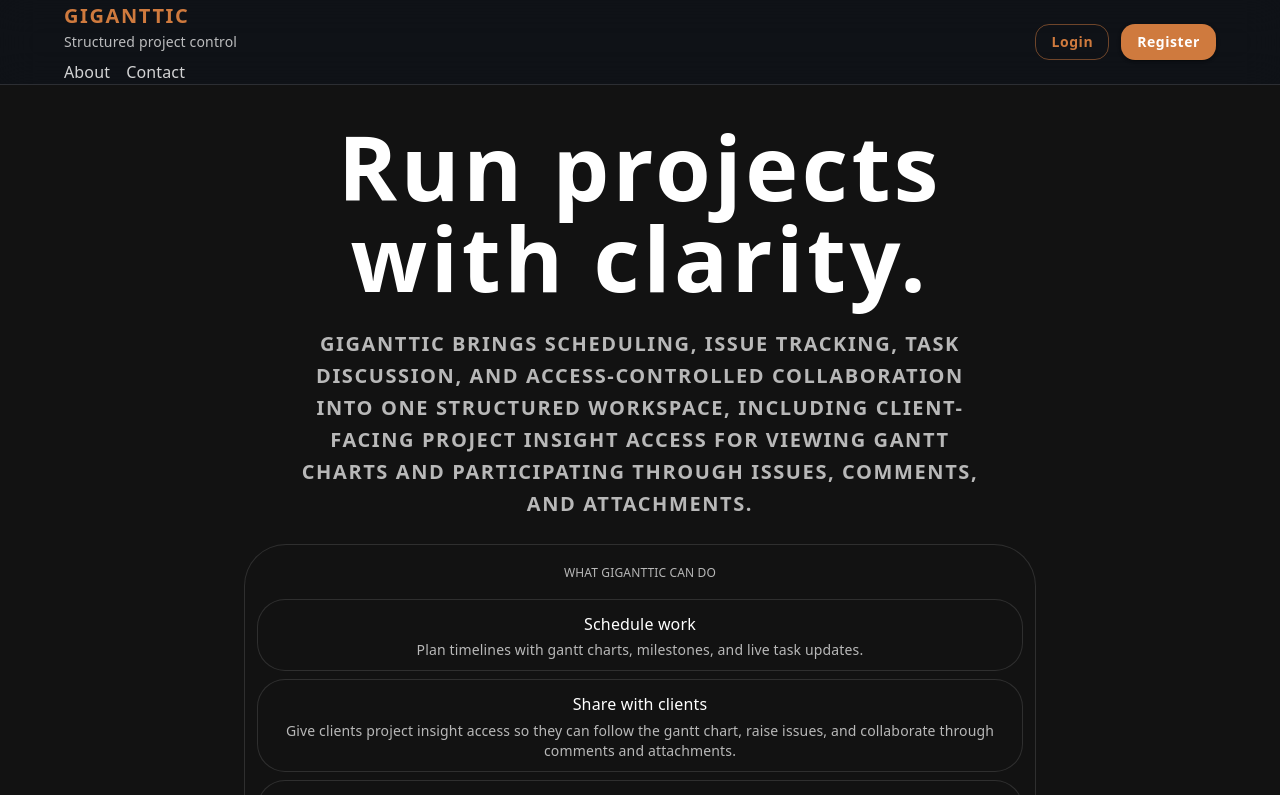
Scenario: SessionManager › submits login failure by Enter into a failure modal
Click the button "Login" at point(1072, 42), box [1036,24,1109,60]
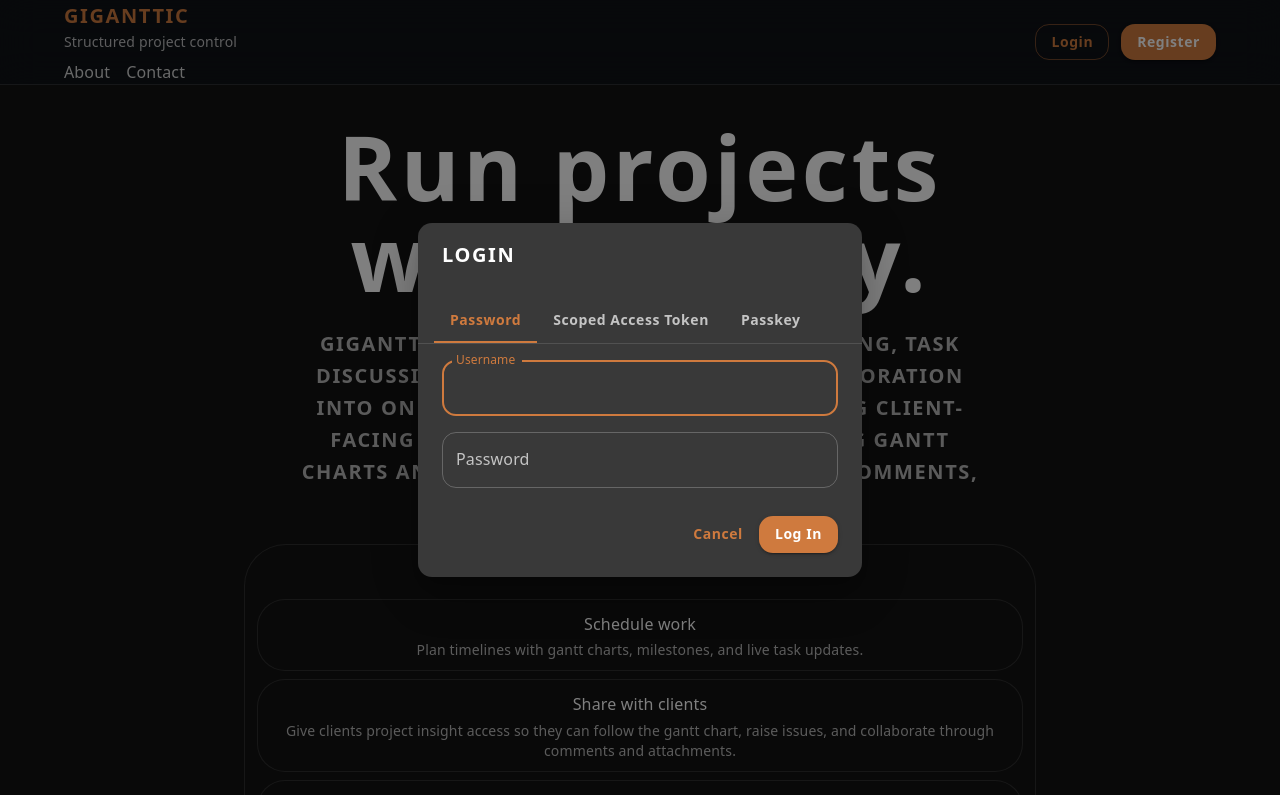
Type "demo-user" into the field labelled "Username" at point(640, 388), box [442,360,838,416]
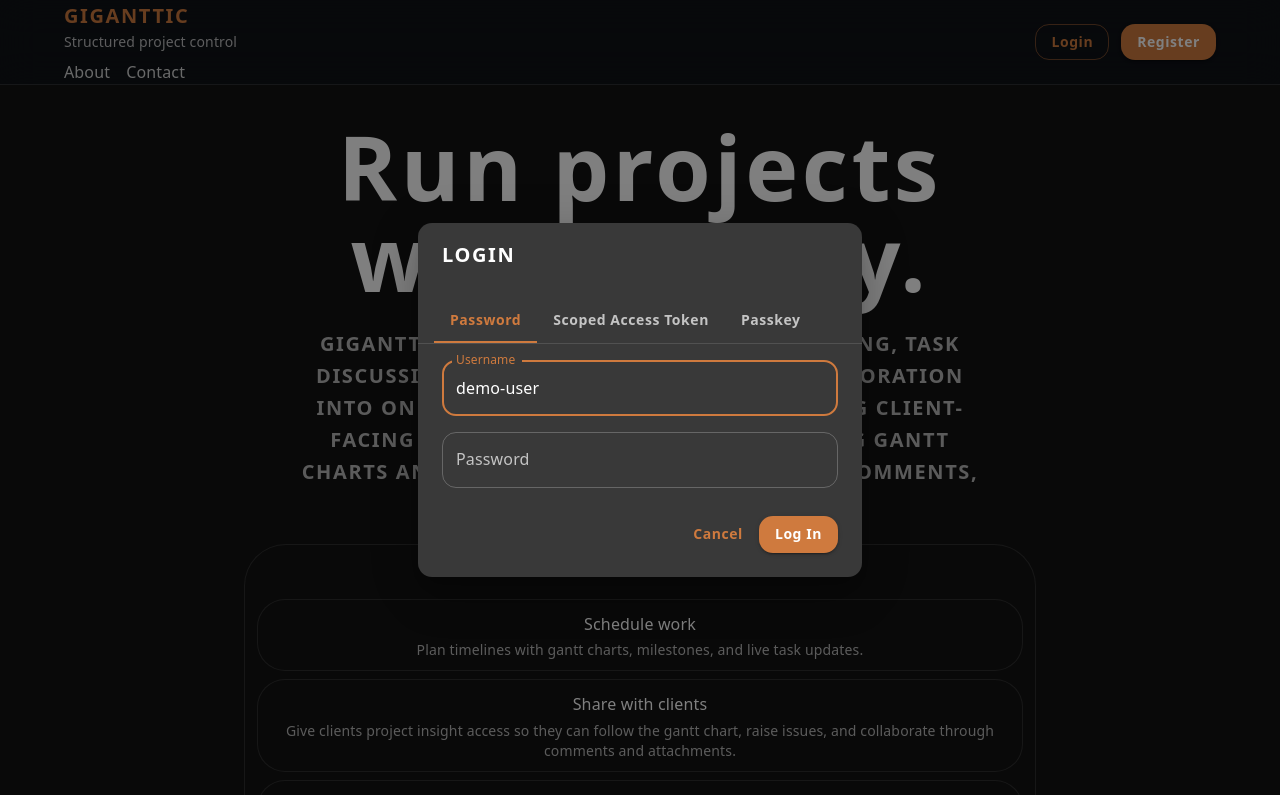
Type "wrong" into the password field labelled "Password" at point(640, 460), box [442,432,838,488]
Then press Enter
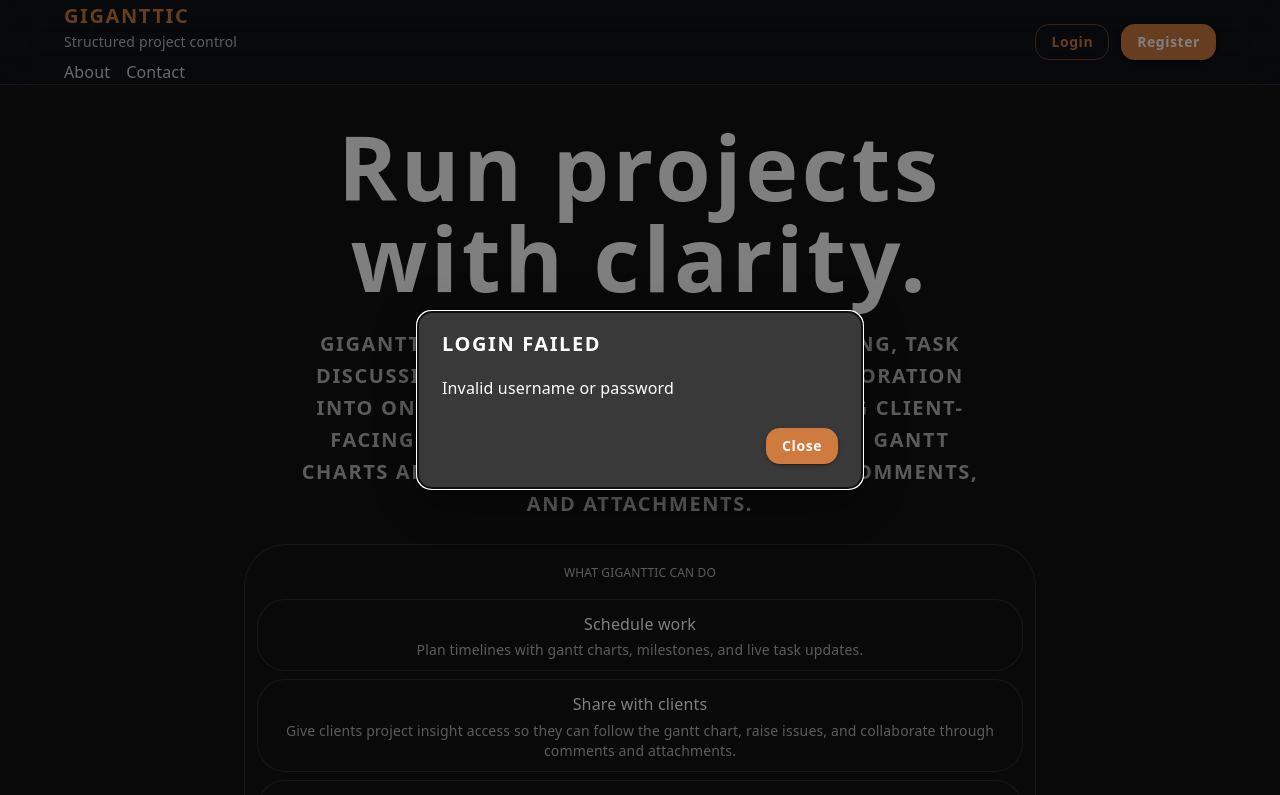
Check: the dialog "Login Failed" is shown, box [418,312,862,488]
Check: the text "Invalid username or password" is shown, box [442,377,674,399]
